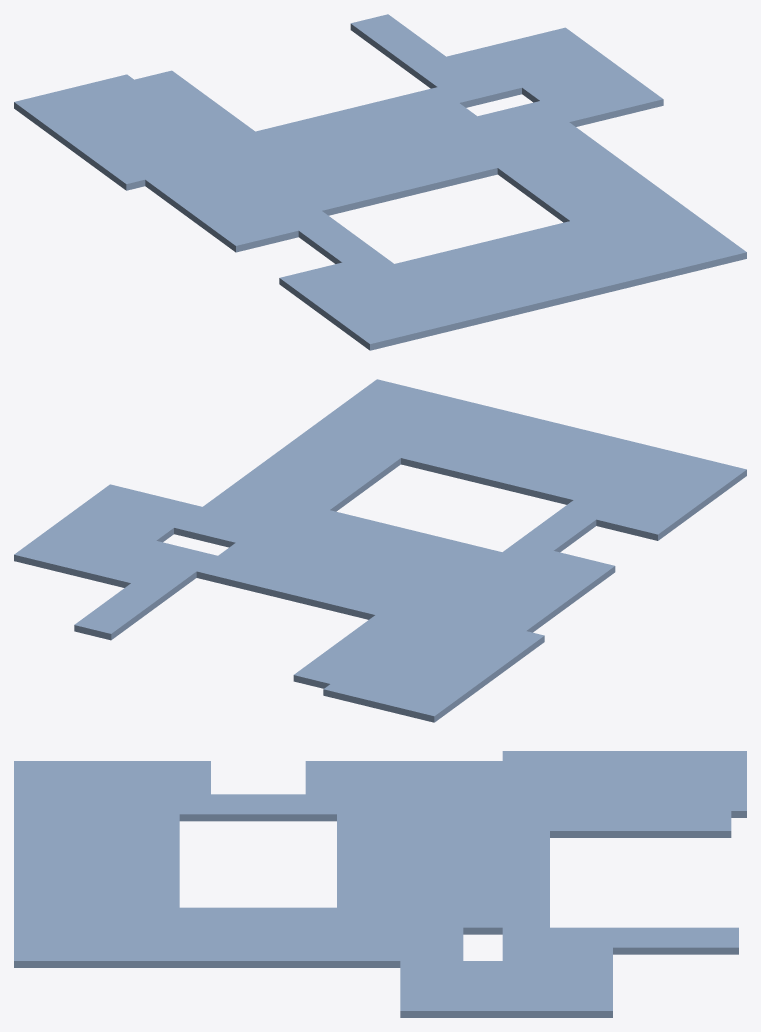
Rendered from SM_floor0_tops.fbx.
3 renders of one model, top to bottom at view 1: azimuth 30°, elevation 25°; view 2: azimuth 150°, elevation 25°; view 3: azimuth 270°, elevation 25°, orthographic. The views are drawn at different scales.
Parts seen in each view (by area): view 1: Hallway46, polySurface17, Roof_floor, Hallway37, polySurface26, Floor_kitchen:polySurface1, Hallway24, Hallway35, Hallway21, Hallway36, Hallway27, Hallway34 (+4 smaller); view 2: Hallway46, polySurface17, polySurface26, Hallway37, Roof_floor, Floor_kitchen:polySurface1, Hallway34, Hallway23, Hallway35, Hallway21, Hallway27, Hallway36 (+4 smaller); view 3: Hallway46, Hallway37, Roof_floor, polySurface26, polySurface17, Floor_kitchen:polySurface1, Hallway27, Hallway36, Hallway35, Hallway21, Hallway43, Hallway34 (+4 smaller).
Part boxes in pixels (x1=…): Hallway46: x1=14, y1=74, x2=238, y2=190; polySurface17: x1=279, y1=262, x2=533, y2=350; Roof_floor: x1=530, y1=186, x2=746, y2=298; Hallway37: x1=446, y1=27, x2=663, y2=126; polySurface26: x1=145, y1=140, x2=362, y2=252; Floor_kitchen:polySurface1: x1=359, y1=101, x2=612, y2=169; Hallway24: x1=300, y1=152, x2=497, y2=215; Hallway35: x1=350, y1=14, x2=496, y2=107; Hallway21: x1=476, y1=143, x2=629, y2=236; Hallway36: x1=135, y1=70, x2=298, y2=172; Hallway27: x1=263, y1=195, x2=415, y2=288; Hallway34: x1=255, y1=87, x2=458, y2=147; Hallway46: x1=323, y1=608, x2=544, y2=722; polySurface17: x1=533, y1=430, x2=746, y2=540; polySurface26: x1=366, y1=551, x2=615, y2=632; Hallway37: x1=14, y1=484, x2=219, y2=587; Roof_floor: x1=288, y1=379, x2=536, y2=459; Floor_kitchen:polySurface1: x1=174, y1=475, x2=369, y2=579; Hallway34: x1=196, y1=556, x2=396, y2=619; Hallway23: x1=401, y1=442, x2=594, y2=504; Hallway35: x1=74, y1=547, x2=217, y2=640; Hallway21: x1=271, y1=433, x2=421, y2=525; Hallway27: x1=481, y1=484, x2=631, y2=576; Hallway36: x1=293, y1=584, x2=445, y2=688; Hallway46: x1=502, y1=751, x2=746, y2=817; Hallway37: x1=400, y1=947, x2=612, y2=1017; Roof_floor: x1=14, y1=874, x2=210, y2=967; polySurface26: x1=305, y1=761, x2=502, y2=847; polySurface17: x1=14, y1=761, x2=210, y2=847; Floor_kitchen:polySurface1: x1=305, y1=874, x2=502, y2=967; Hallway27: x1=132, y1=794, x2=384, y2=821; Hallway36: x1=455, y1=811, x2=731, y2=837; Hallway35: x1=502, y1=927, x2=738, y2=954; Hallway21: x1=132, y1=907, x2=384, y2=927; Hallway43: x1=171, y1=927, x2=305, y2=967; Hallway34: x1=502, y1=831, x2=549, y2=927.
Bounding box in the file's own units: 3900 × 50 × 4650.
